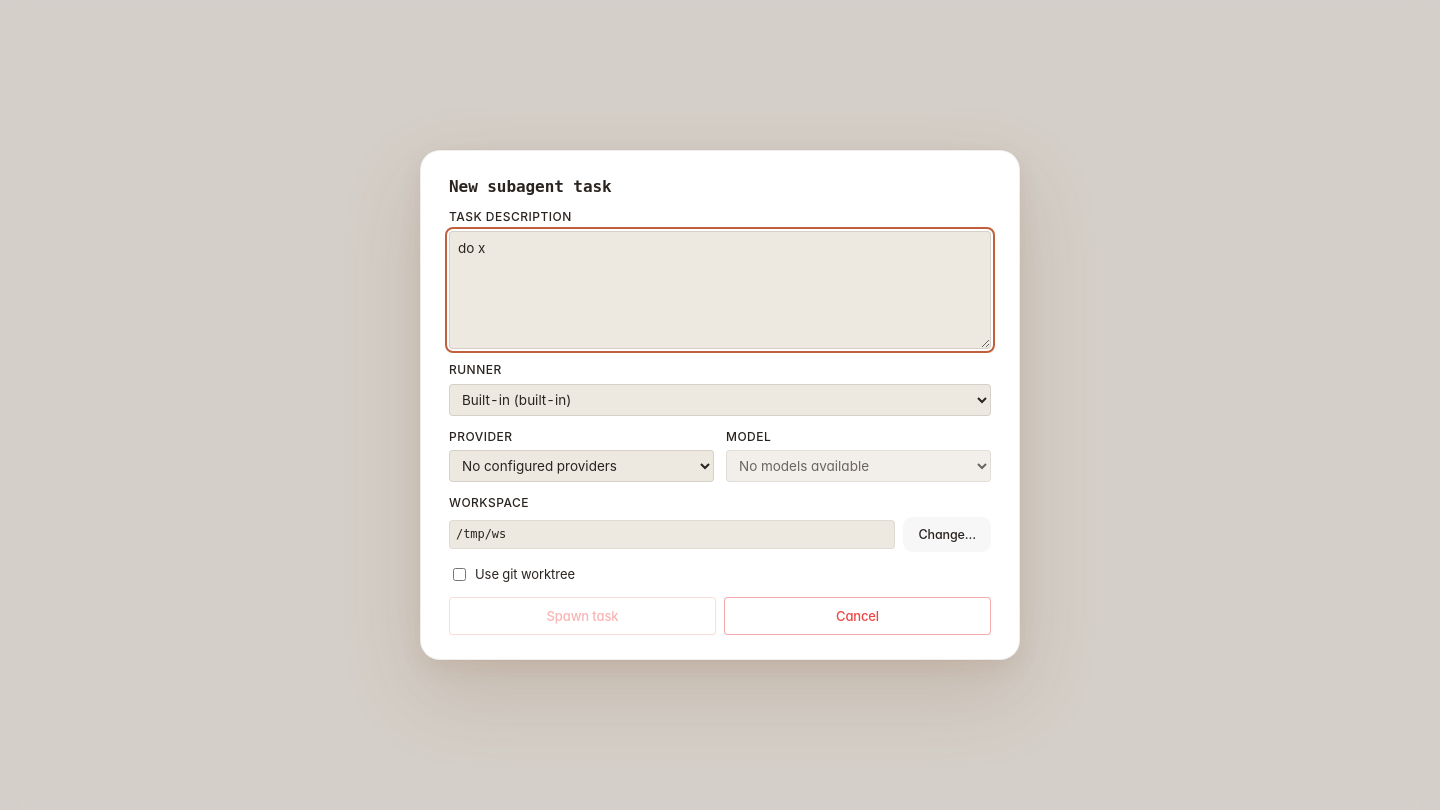
Test: AgentSpawnModal › keeps the submit button enabled with an external runner even if provider/model are unset
The width and height of the screenshot is (1440, 810).
Select "Claude Code (@opencodex/runner-claude-code) — Installed ✓" in the dropdown labelled "Runner": point(720, 400) [449,384,991,416]
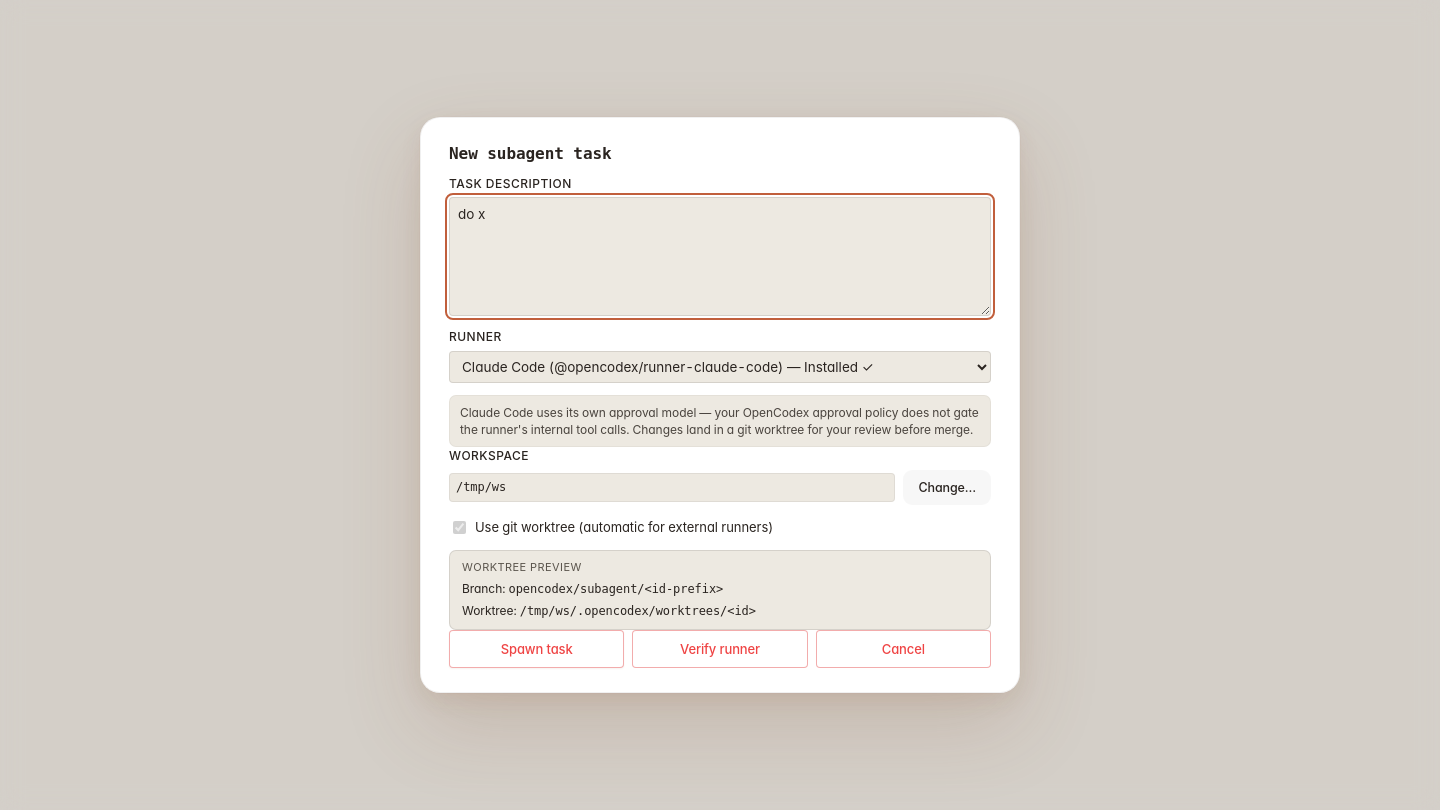
Now the button "Spawn task" is enabled, box [449,630,624,668]
